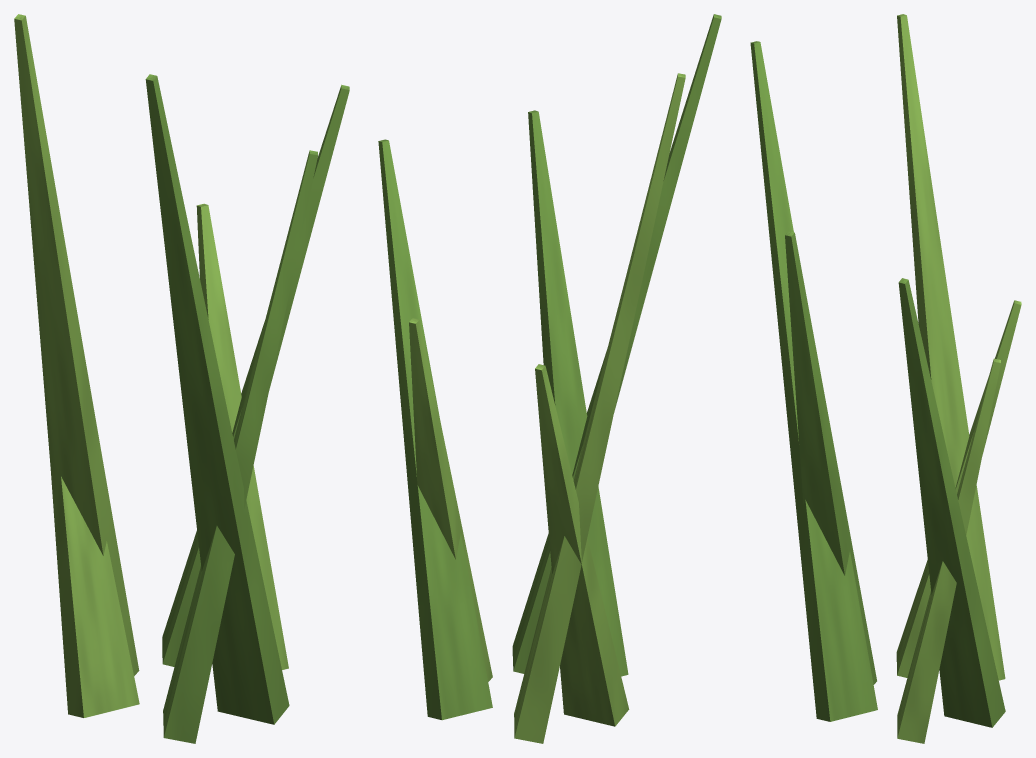
Rendered from grass_tuft_01.glb.
3 views of the same model, side by side, from view 1: azimuth 30°, elevation 25°; view 2: azimuth 150°, elevation 25°; view 3: azimuth 270°, elevation 25° (orthographic). The views are drawn at different scales.
Visible parts, largest first — view 1: grass_tuft_01; view 2: grass_tuft_01; view 3: grass_tuft_01.
Part boxes in pixels (<box>): grass_tuft_01: <box>14,14,349,743</box>; grass_tuft_01: <box>378,14,721,743</box>; grass_tuft_01: <box>750,14,1021,743</box>.
Bounding box in the file's own units: 0.3602 × 0.7383 × 0.2932.
1 material, 1 textured.
